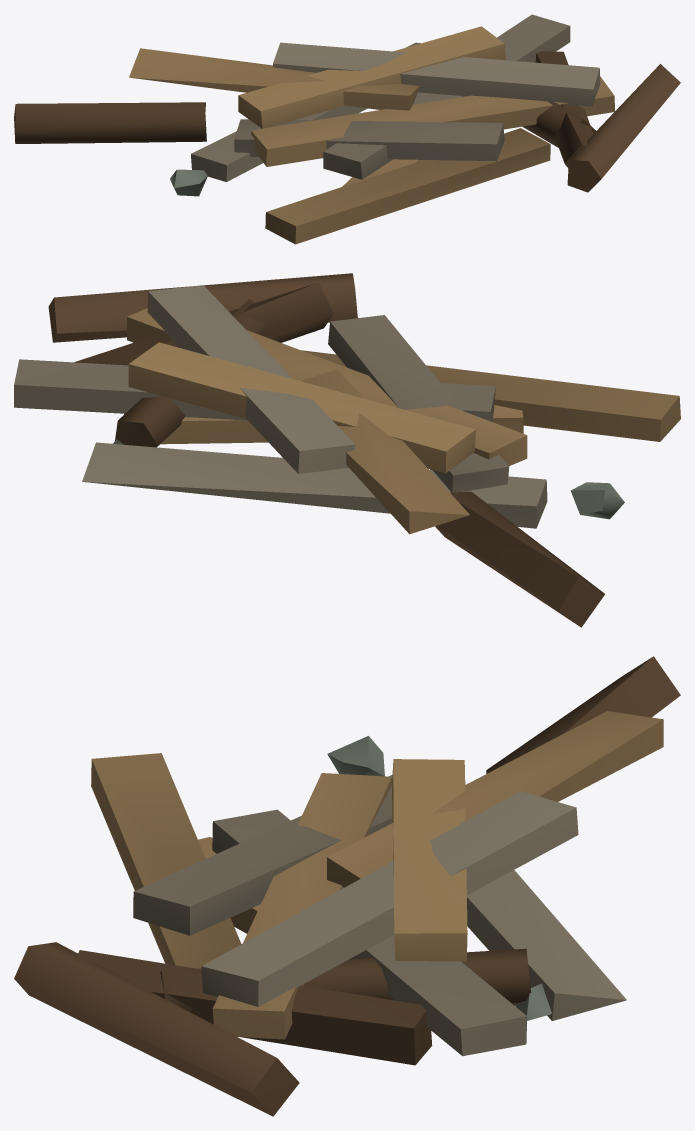
File: timber_lagging_b_lod2.glb
The picture shows the model from 3 angles, top to bottom: view 1: azimuth 30°, elevation 25°; view 2: azimuth 150°, elevation 25°; view 3: azimuth 270°, elevation 25°; orthographic projection. The views are drawn at different scales.
Visible parts, largest first — view 1: Surface.001; view 2: Surface.001; view 3: Surface.001.
Boxes of the visible parts, x1,y1,x2,y2 form: Surface.001: (14, 14, 680, 244); Surface.001: (14, 273, 680, 627); Surface.001: (14, 656, 680, 1116).
Size of the model in its own units: 4.22 by 0.4748 by 2.84.
